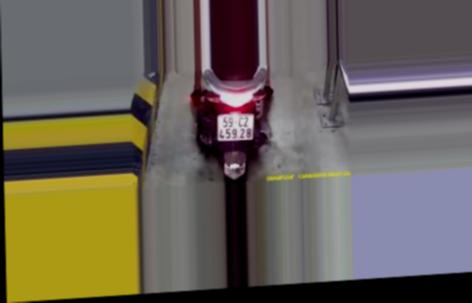License_Plate: (213, 110, 259, 145)
